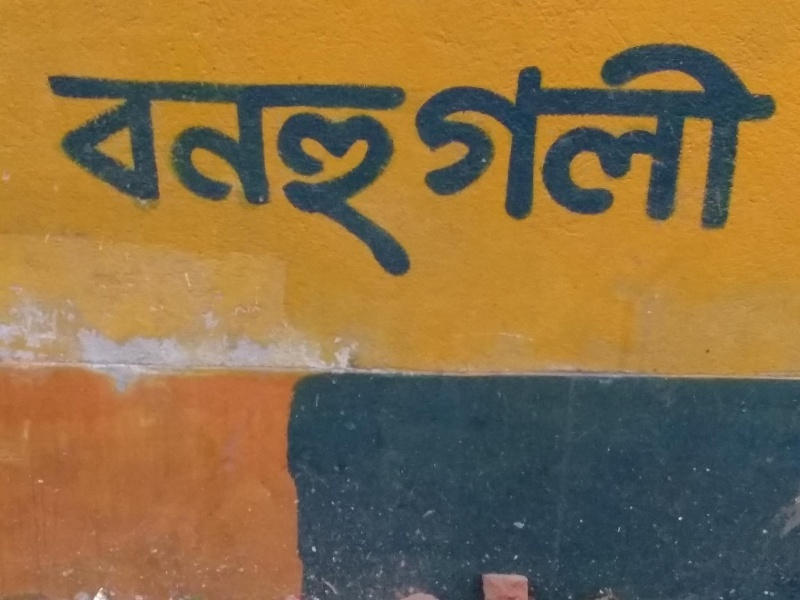text: (769, 35, 785, 297), (49, 35, 64, 297), (65, 35, 80, 297), (81, 35, 96, 297), (97, 35, 112, 297), (113, 35, 128, 297), (129, 35, 144, 297), (145, 35, 160, 297), (161, 35, 176, 297), (177, 35, 192, 297), (193, 35, 208, 297), (209, 35, 224, 297), (225, 35, 240, 297), (241, 35, 256, 297), (257, 35, 272, 297), (273, 35, 288, 297), (289, 35, 304, 297), (305, 35, 320, 297), (321, 35, 336, 297), (337, 35, 352, 297), (353, 35, 368, 297), (369, 35, 384, 297), (385, 35, 400, 297), (401, 35, 416, 297), (417, 35, 432, 297), (433, 35, 448, 297), (449, 35, 464, 297), (465, 35, 480, 297), (481, 35, 496, 297), (497, 35, 512, 297), (513, 35, 528, 297), (529, 35, 544, 297), (545, 35, 560, 297), (561, 35, 576, 297), (577, 35, 592, 297), (593, 35, 608, 297), (609, 35, 624, 297), (625, 35, 640, 297), (641, 35, 656, 297), (657, 35, 672, 297), (673, 35, 688, 297), (689, 35, 704, 297), (705, 35, 720, 297), (721, 35, 736, 297), (737, 35, 752, 297), (753, 35, 768, 297), (41, 35, 48, 297)
